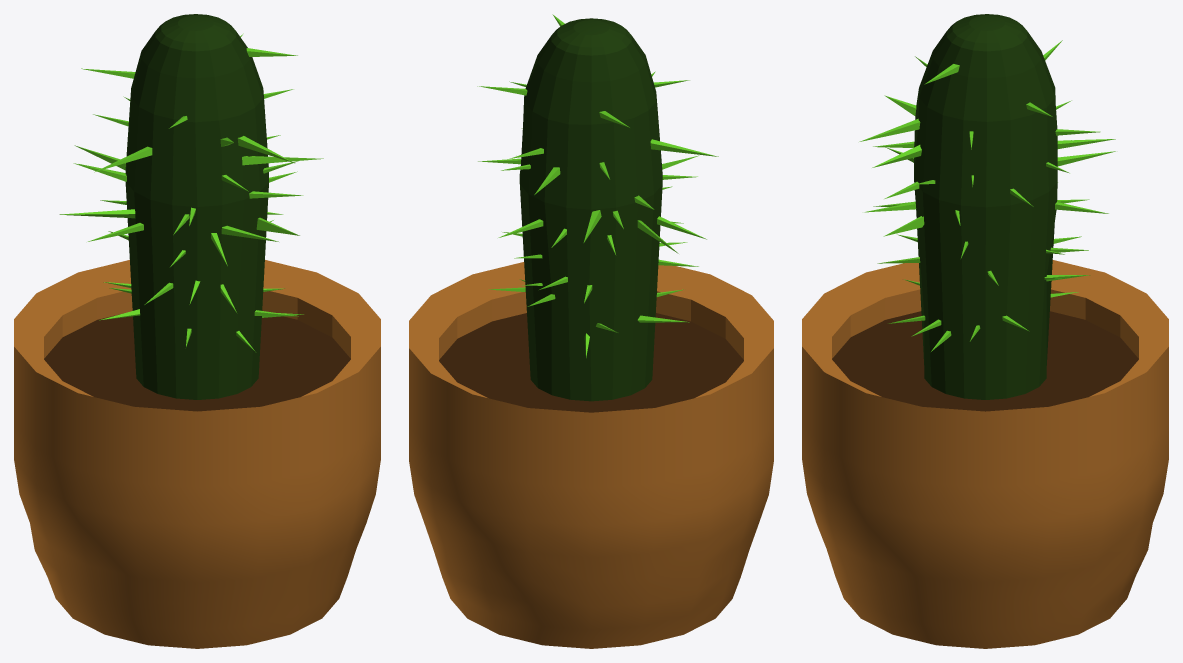
File: cactus.fbx
The picture shows the model from 3 angles, left to right: view 1: azimuth 30°, elevation 25°; view 2: azimuth 150°, elevation 25°; view 3: azimuth 270°, elevation 25°; orthographic projection.
Visible parts, largest first — view 1: Cylinder010, Object001; view 2: Cylinder010, Object001; view 3: Cylinder010, Object001.
Part boxes in pixels (box(x1,y1,x2,y2)): Cylinder010: box(14, 260, 380, 648); Object001: box(59, 14, 323, 399); Cylinder010: box(409, 262, 773, 648); Object001: box(477, 14, 718, 401); Cylinder010: box(802, 260, 1168, 648); Object001: box(859, 14, 1115, 399).
Bounding box in the file's own units: 171 × 288 × 169.
